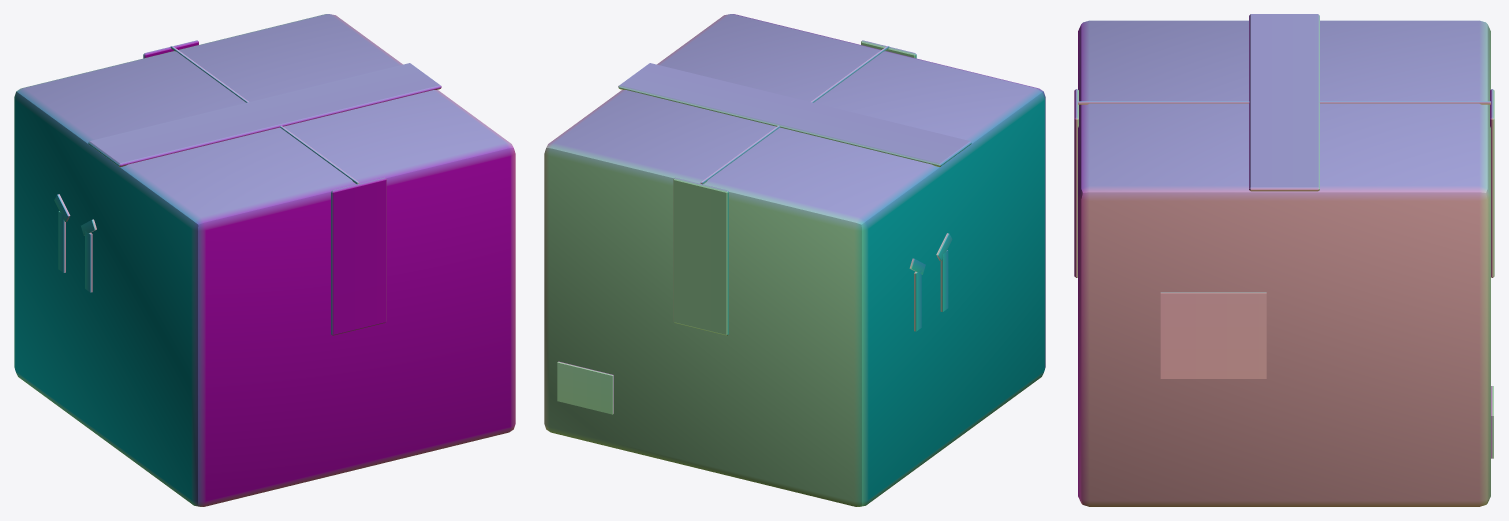
The model's file is prop_box.glb.
3 views of the same model, side by side, from view 1: azimuth 30°, elevation 25°; view 2: azimuth 150°, elevation 25°; view 3: azimuth 270°, elevation 25° (orthographic). The views are drawn at different scales.
Visible parts, largest first — view 1: prop_box_mesh; view 2: prop_box_mesh; view 3: prop_box_mesh.
Part boxes in pixels (x1,y1,x2,y2): prop_box_mesh: [14, 14, 515, 506]; prop_box_mesh: [544, 14, 1045, 506]; prop_box_mesh: [1074, 14, 1494, 506].
Size of the model in its own units: 0.71 by 0.605 by 0.712.
